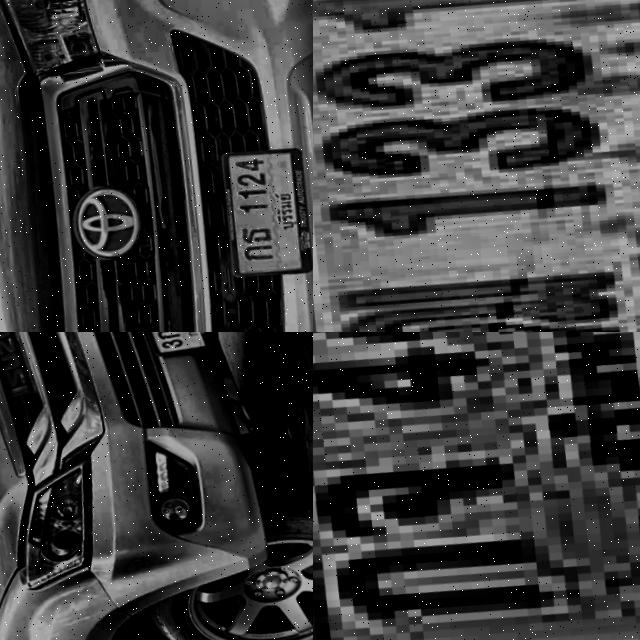license-plate: (313, 0, 640, 332), (313, 332, 640, 640), (210, 133, 313, 276), (120, 332, 217, 360)
